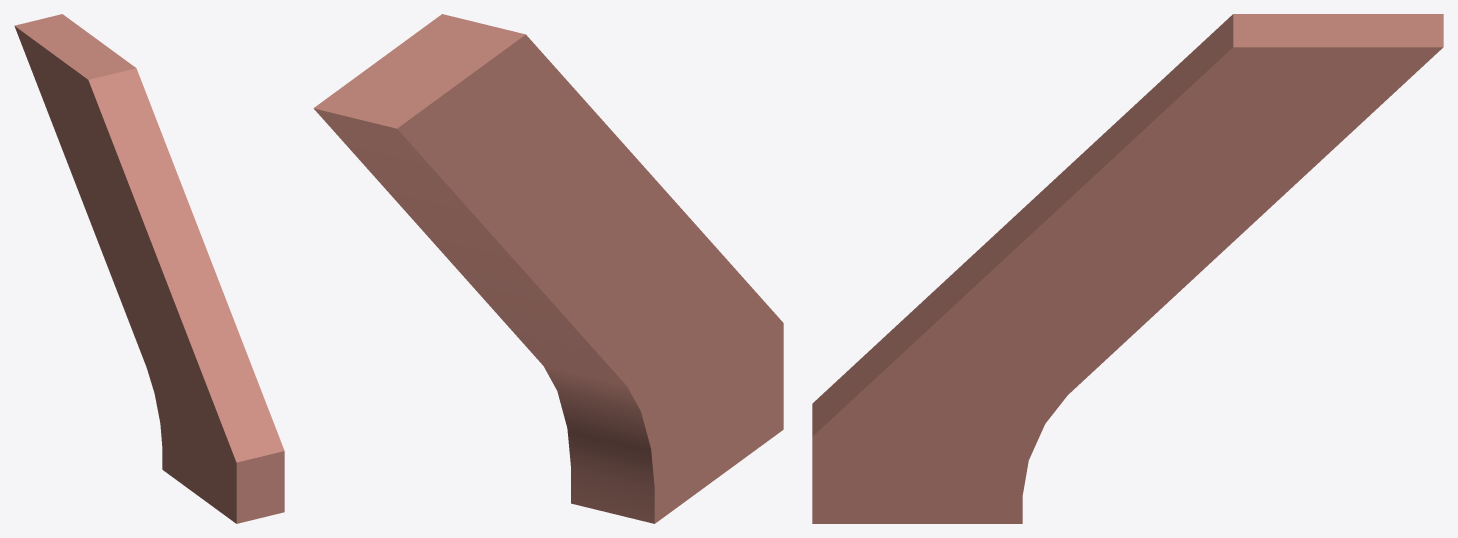
File: BasicSupport03Middle.fbx
3 views of the same model, side by side, from view 1: azimuth 30°, elevation 25°; view 2: azimuth 150°, elevation 25°; view 3: azimuth 270°, elevation 25° (orthographic). The views are drawn at different scales.
Visible parts, largest first — view 1: BasicSupport03Middle.002; view 2: BasicSupport03Middle.002; view 3: BasicSupport03Middle.002.
Boxes of the visible parts, x1,y1,x2,y2 form: BasicSupport03Middle.002: (14,14,284,523); BasicSupport03Middle.002: (313,14,783,523); BasicSupport03Middle.002: (812,14,1443,523).
Size of the model in its own units: 75 by 500 by 600.
